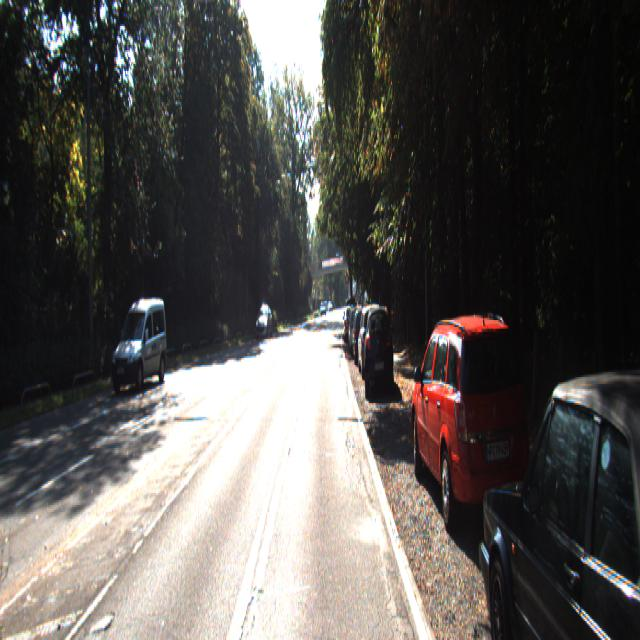Car: (472, 341, 640, 638), (407, 311, 538, 556), (109, 293, 169, 394), (364, 300, 394, 394), (358, 307, 387, 381), (354, 310, 374, 368), (256, 304, 274, 339), (345, 308, 358, 346)
